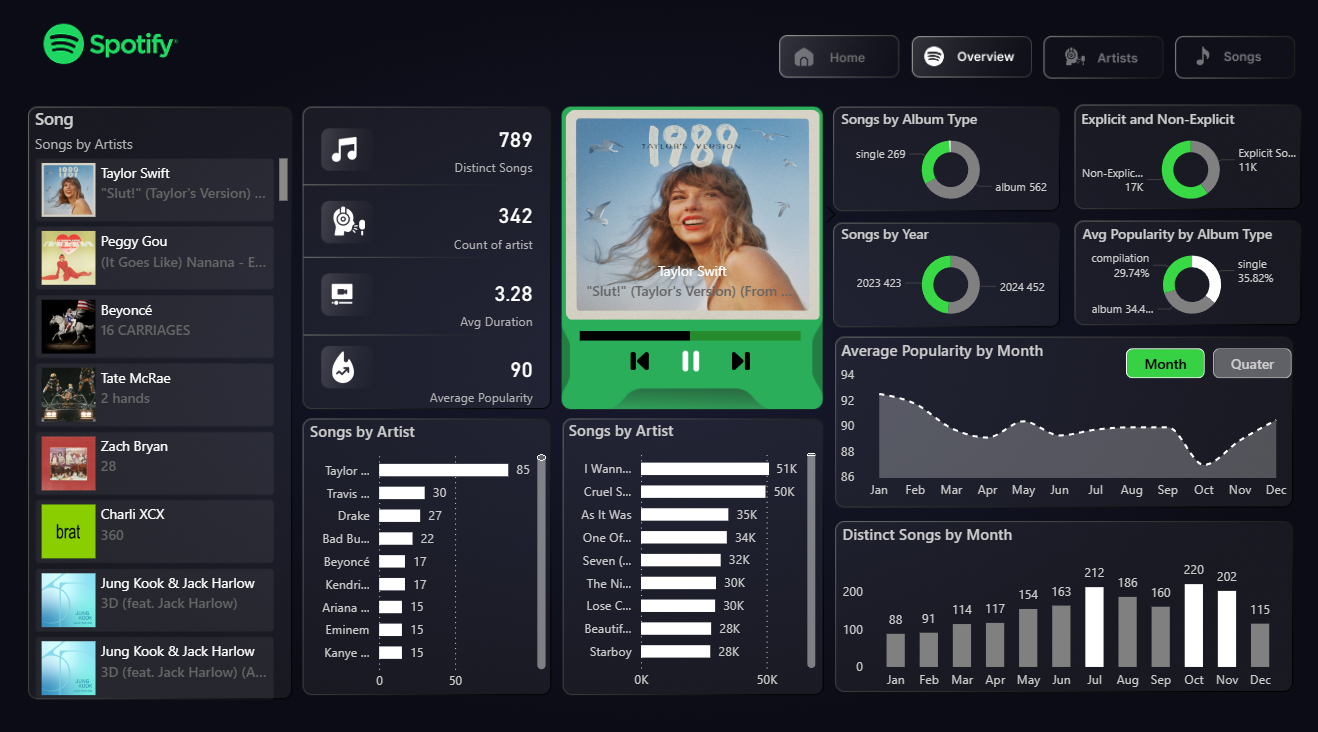

Layout of this report page (visuals, bound fields, positions):
{"tool":"powerbi","page":{"name":"Overview","canvas":[1280,720],"ordinal":1},"visuals":[{"type":"clusteredBarChart","title":"Songs by Artist","fields":{"Category":["Top-50-World.song"],"Y":["Sum(Top-50-World.popularity)"]},"box":[547.7,412.6,248.5,269],"z":0},{"type":"clusteredBarChart","title":"Songs by Artist","fields":{"Category":["Top-50-World.artist"],"Y":["_Measures.Distinct Songs"]},"box":[298,413.8,237.7,269],"z":1000},{"type":"areaChart","fields":{"Category":["Top-50-World.Month"],"Y":["_Measures.Average Popularity"]},"box":[810.7,335.4,444,162.9],"z":2000},{"type":"advancedSlicerVisual","fields":{"Values":["Slicer_Option.Slicer_Option"]},"box":[1085.8,339,170.1,39.8],"z":3000},{"type":"donutChart","title":"Songs by Album Type","fields":{"Category":["Top-50-World.album_type"],"Y":["_Measures.Distinct Songs"]},"box":[810.7,113.4,222,98.9],"z":4000},{"type":"donutChart","title":"Explicit and Non-Explicit","fields":{"Y":["_Measures.Explicit Songs","_Measures.Non-Explicit Songs"]},"box":[1042.4,113.4,222,98.9],"z":5000},{"type":"donutChart","title":"Songs by Year","fields":{"Y":["_Measures.Distinct Songs"],"Category":["Top-50-World.Year"]},"box":[810.7,224.4,222,98.9],"z":6000},{"type":"donutChart","title":"Avg Popularity by Album Type","fields":{"Category":["Top-50-World.album_type"],"Y":["_Measures.Average Popularity"]},"box":[1043.6,224.4,222,98.9],"z":7000},{"type":"clusteredColumnChart","fields":{"Category":["Top-50-World.Month"],"Y":["_Measures.Distinct Songs"]},"box":[811.9,512.7,435.5,168.9],"z":8000},{"type":"cardVisual","fields":{"Data":["_Measures.Distinct Songs"]},"box":[415,113.4,120.6,70],"z":9000},{"type":"cardVisual","fields":{"Data":["Count(Top-50-World.artist)"]},"box":[415,187.4,120.6,70],"z":10000},{"type":"cardVisual","fields":{"Data":["_Measures.Avg Duration (mins)"]},"box":[415,261.4,120.6,70],"z":11000},{"type":"cardVisual","fields":{"Data":["_Measures.Average Popularity"]},"box":[393.3,335.4,142.4,70],"z":12000},{"type":"image","box":[319.7,341.4,39.8,42.2],"z":13000},{"type":"image","box":[320.9,200.3,39.8,42.2],"z":14000},{"type":"image","box":[316.1,135.1,39.8,33.8],"z":15000},{"type":"image","box":[314.9,275.1,38.6,33.8],"z":16000},{"type":"advancedSlicerVisual","title":"Song ","fields":{"Values":["Top-50-World.song"]},"box":[32.6,111,254.6,581.5],"z":17000},{"type":"advancedSlicerVisual","title":"Song ","fields":{"Values":["Top-50-World.song"]},"box":[523.6,107.4,298,216],"z":18000},{"type":"hundredPercentStackedBarChart","fields":{"Y":["_Measures.Average Popularity","Avg(Top-50-World.popularity)"]},"box":[558.6,296.8,223.2,63.9],"z":19000},{"type":"image","box":[600.8,341.4,40,30],"z":20000},{"type":"image","box":[698.5,341.4,40,30],"z":21000},{"type":"image","box":[649.7,341.4,40,30],"z":22000},{"type":"actionButton","box":[755.2,42.2,117,39.8],"z":23000},{"type":"actionButton","box":[885.3,42.9,114.6,39.8],"z":24000},{"type":"actionButton","box":[1012,42.9,111,42.2],"z":25000},{"type":"actionButton","box":[1137.7,43.4,107.4,39.8],"z":26000}]}

Visuals, with their boxes in screenshot pixels (x1, y1, x2, y2), scaled from the page's 1280x720 canvas onto the 1318x732 screenshot:
"Songs by Artist" clusteredBarChart: {"x1": 564, "y1": 419, "x2": 820, "y2": 693}
"Songs by Artist" clusteredBarChart: {"x1": 307, "y1": 421, "x2": 552, "y2": 694}
areaChart - Top-50-World.Month x _Measures.Average Popularity: {"x1": 835, "y1": 341, "x2": 1292, "y2": 507}
advancedSlicerVisual - Slicer_Option.Slicer_Option: {"x1": 1118, "y1": 345, "x2": 1293, "y2": 385}
"Songs by Album Type" donutChart: {"x1": 835, "y1": 115, "x2": 1063, "y2": 216}
"Explicit and Non-Explicit" donutChart: {"x1": 1073, "y1": 115, "x2": 1302, "y2": 216}
"Songs by Year" donutChart: {"x1": 835, "y1": 228, "x2": 1063, "y2": 329}
"Avg Popularity by Album Type" donutChart: {"x1": 1075, "y1": 228, "x2": 1303, "y2": 329}
clusteredColumnChart - Top-50-World.Month x _Measures.Distinct Songs: {"x1": 836, "y1": 521, "x2": 1284, "y2": 693}
cardVisual - _Measures.Distinct Songs: {"x1": 427, "y1": 115, "x2": 552, "y2": 186}
cardVisual - Count(Top-50-World.artist): {"x1": 427, "y1": 191, "x2": 552, "y2": 262}
cardVisual - _Measures.Avg Duration (mins): {"x1": 427, "y1": 266, "x2": 552, "y2": 337}
cardVisual - _Measures.Average Popularity: {"x1": 405, "y1": 341, "x2": 552, "y2": 412}
image: {"x1": 329, "y1": 347, "x2": 370, "y2": 390}
image: {"x1": 330, "y1": 204, "x2": 371, "y2": 247}
image: {"x1": 325, "y1": 137, "x2": 366, "y2": 172}
image: {"x1": 324, "y1": 280, "x2": 364, "y2": 314}
"Song " advancedSlicerVisual: {"x1": 34, "y1": 113, "x2": 296, "y2": 704}
"Song " advancedSlicerVisual: {"x1": 539, "y1": 109, "x2": 846, "y2": 329}
hundredPercentStackedBarChart - _Measures.Average Popularity x Avg(Top-50-World.popularity): {"x1": 575, "y1": 302, "x2": 805, "y2": 367}
image: {"x1": 619, "y1": 347, "x2": 660, "y2": 378}
image: {"x1": 719, "y1": 347, "x2": 760, "y2": 378}
image: {"x1": 669, "y1": 347, "x2": 710, "y2": 378}
actionButton: {"x1": 778, "y1": 43, "x2": 898, "y2": 83}
actionButton: {"x1": 912, "y1": 44, "x2": 1030, "y2": 84}
actionButton: {"x1": 1042, "y1": 44, "x2": 1156, "y2": 87}
actionButton: {"x1": 1171, "y1": 44, "x2": 1282, "y2": 85}
